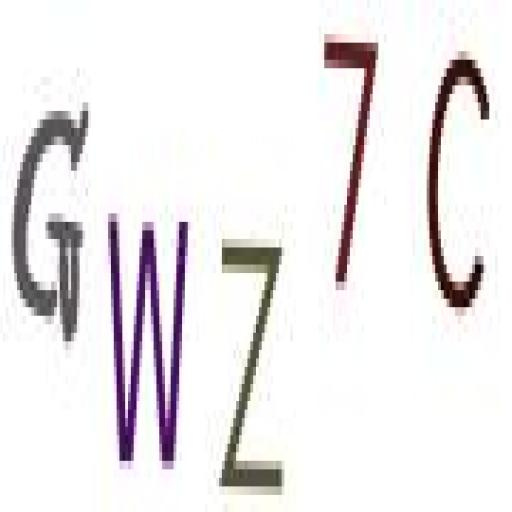7: (318, 21, 382, 305)
C: (425, 20, 503, 344)
G: (9, 81, 94, 372)
W: (102, 203, 190, 476)
Z: (212, 214, 292, 508)
